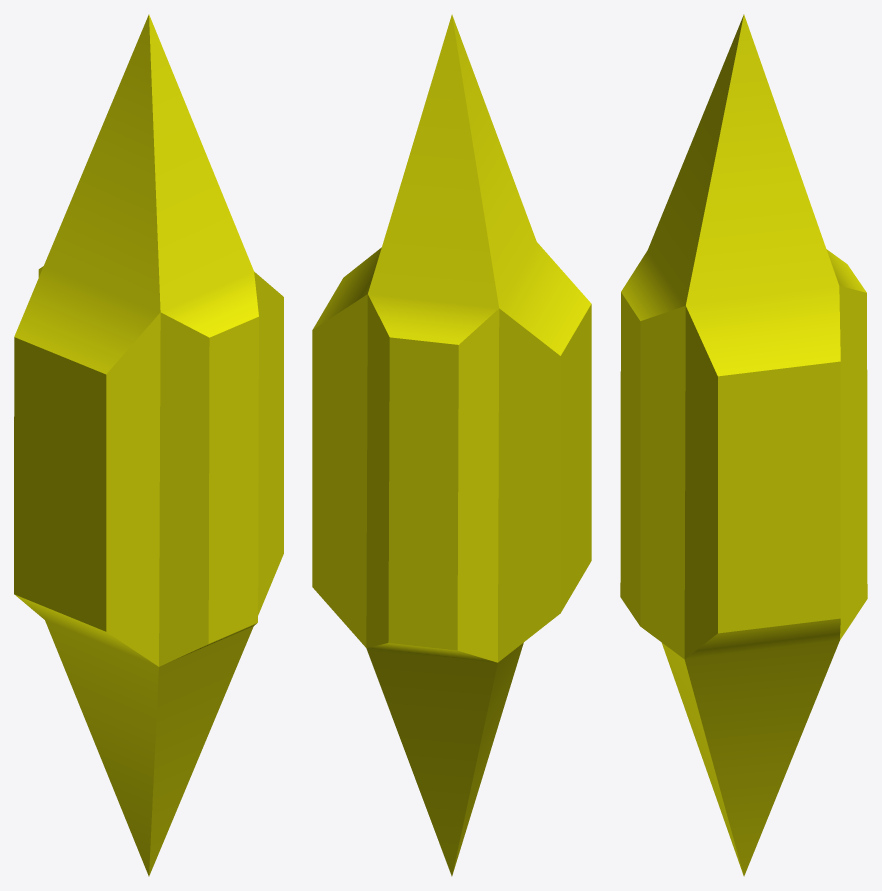
The model's file is MRock.fbx.
3 views of the same model, side by side, from view 1: azimuth 30°, elevation 25°; view 2: azimuth 150°, elevation 25°; view 3: azimuth 270°, elevation 25° (orthographic).
Parts seen in each view (by area): view 1: Diamond; view 2: Diamond; view 3: Diamond.
Part boxes in pixels (bbox=[...]): Diamond: bbox=[14, 14, 283, 876]; Diamond: bbox=[312, 14, 591, 876]; Diamond: bbox=[620, 14, 867, 876].
Size of what is drawn, in the model's own units: 0.0797 by 0.2699 by 0.07.
